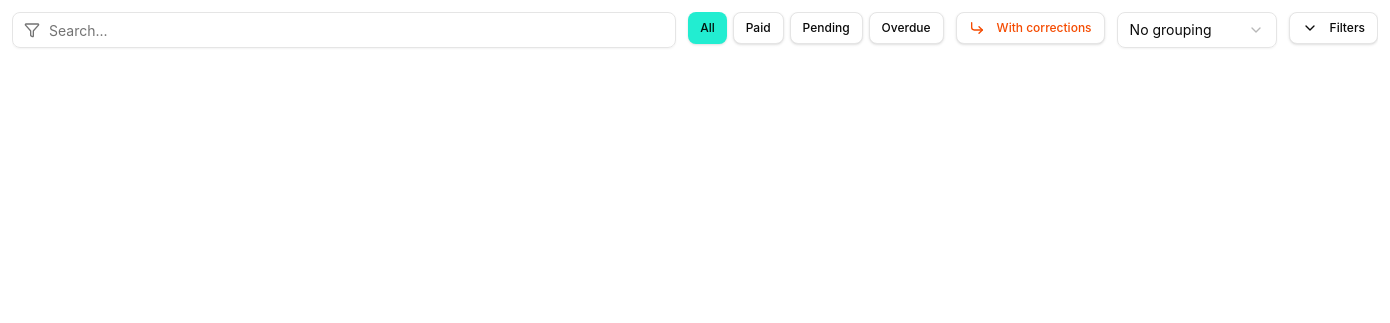
Scenario: InvoiceFilters › expands advanced panel on click
Click the button "Filters": (1333, 28) [1289,12,1378,44]
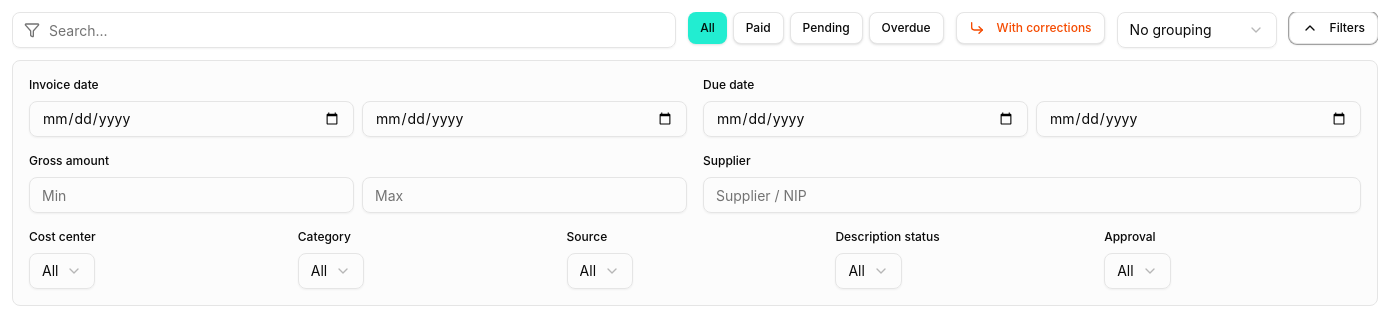
Now the text "Invoice date" is shown, box [29,77,99,92]
Now the text "Due date" is shown, box [703,77,754,92]
Now the text "Gross amount" is shown, box [29,153,109,168]
